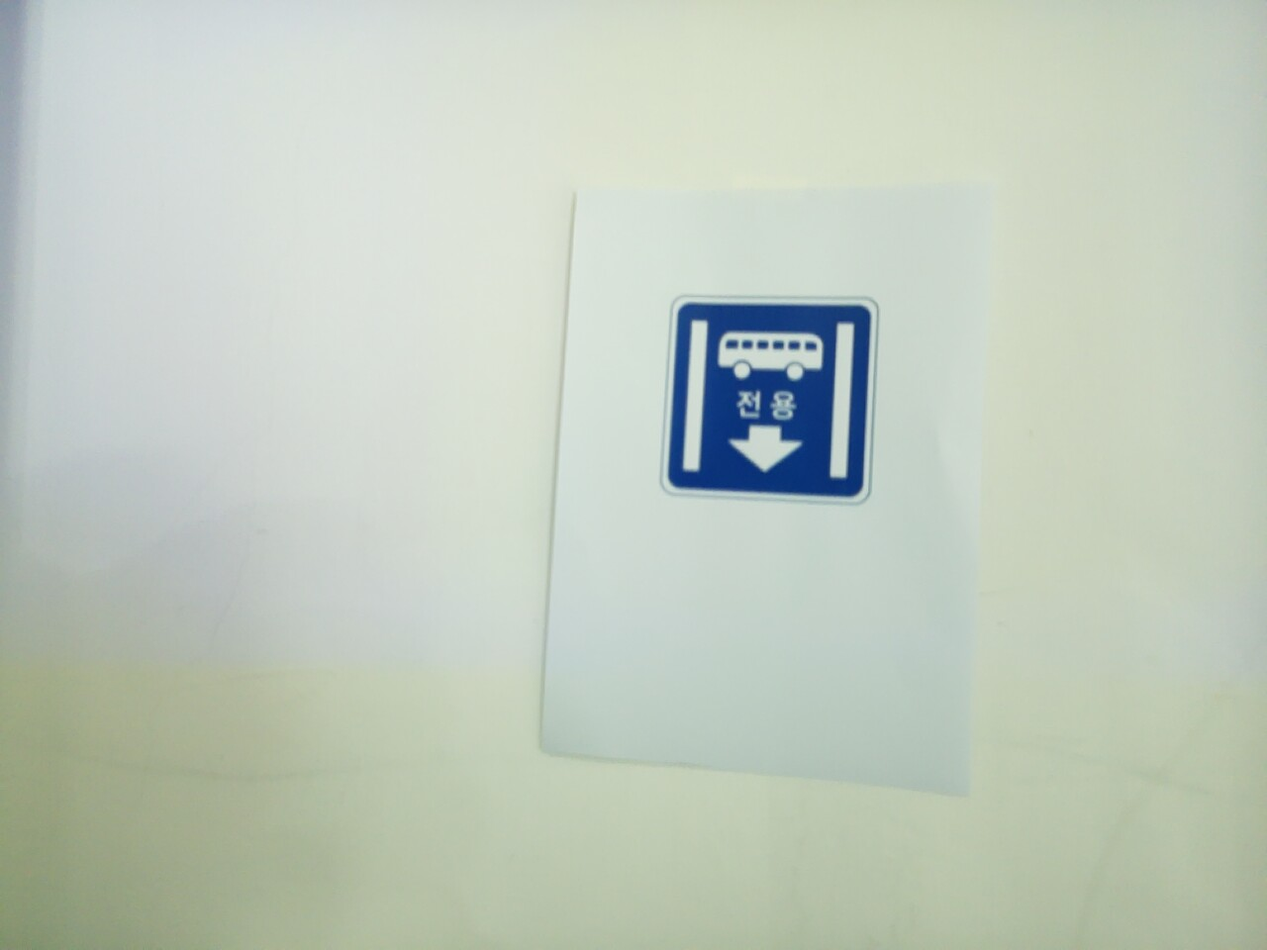bus_only_lane: (660, 295, 879, 505)
